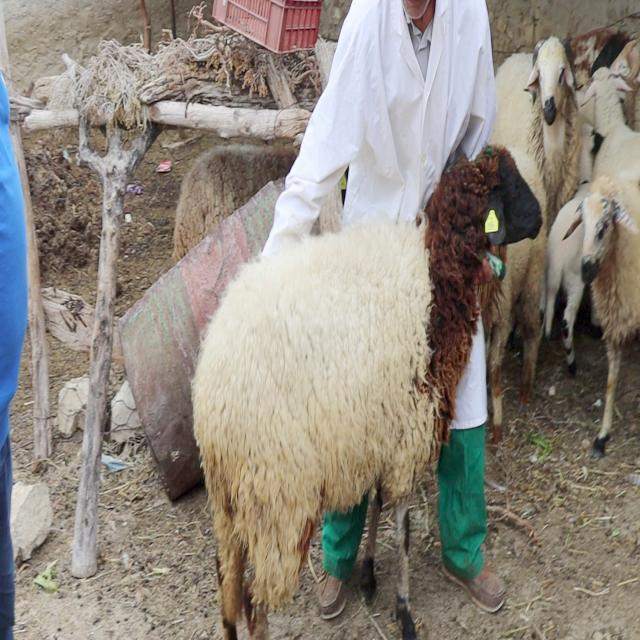Score_4: (192, 146, 543, 639)
